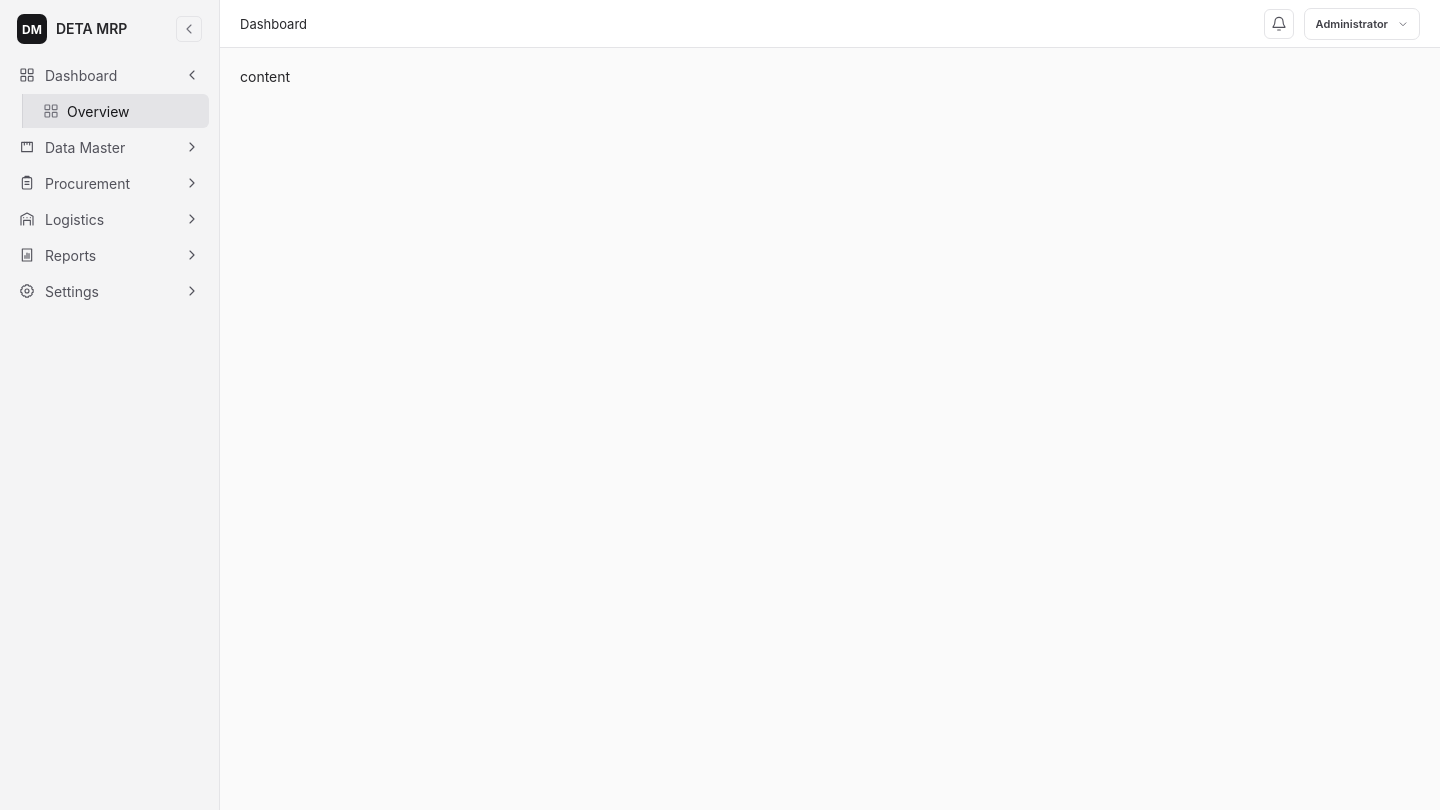
AppShell › keeps the user menu and session UI visible when logout fails
The image size is (1440, 810).
Expected: the text "Administrator" is shown, [1316,16,1388,30]
Click the button with aria-label "Open user menu" at point(1362, 24), box [1304,8,1420,40]
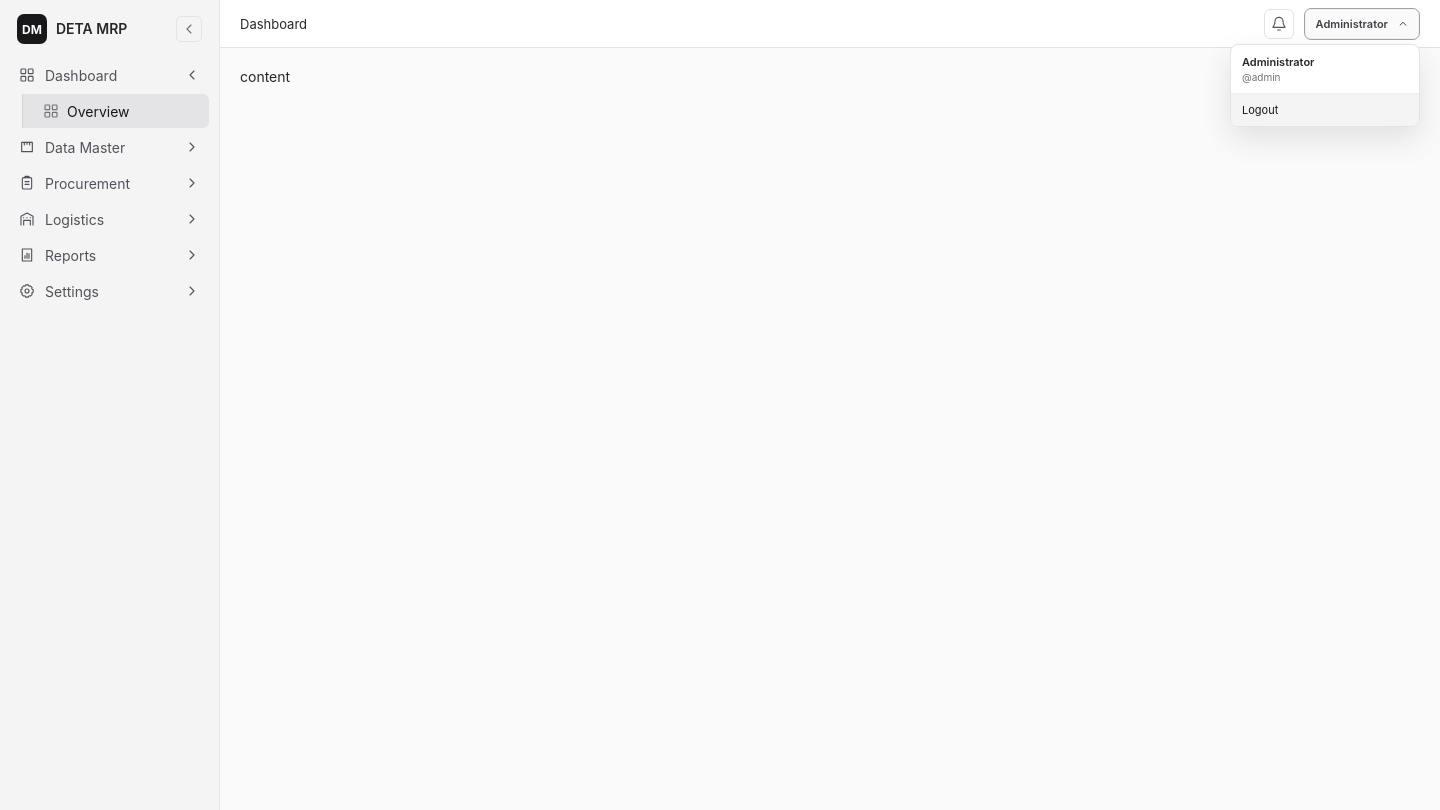
Click the button "Logout" at point(1325, 110), box [1231,94,1419,126]
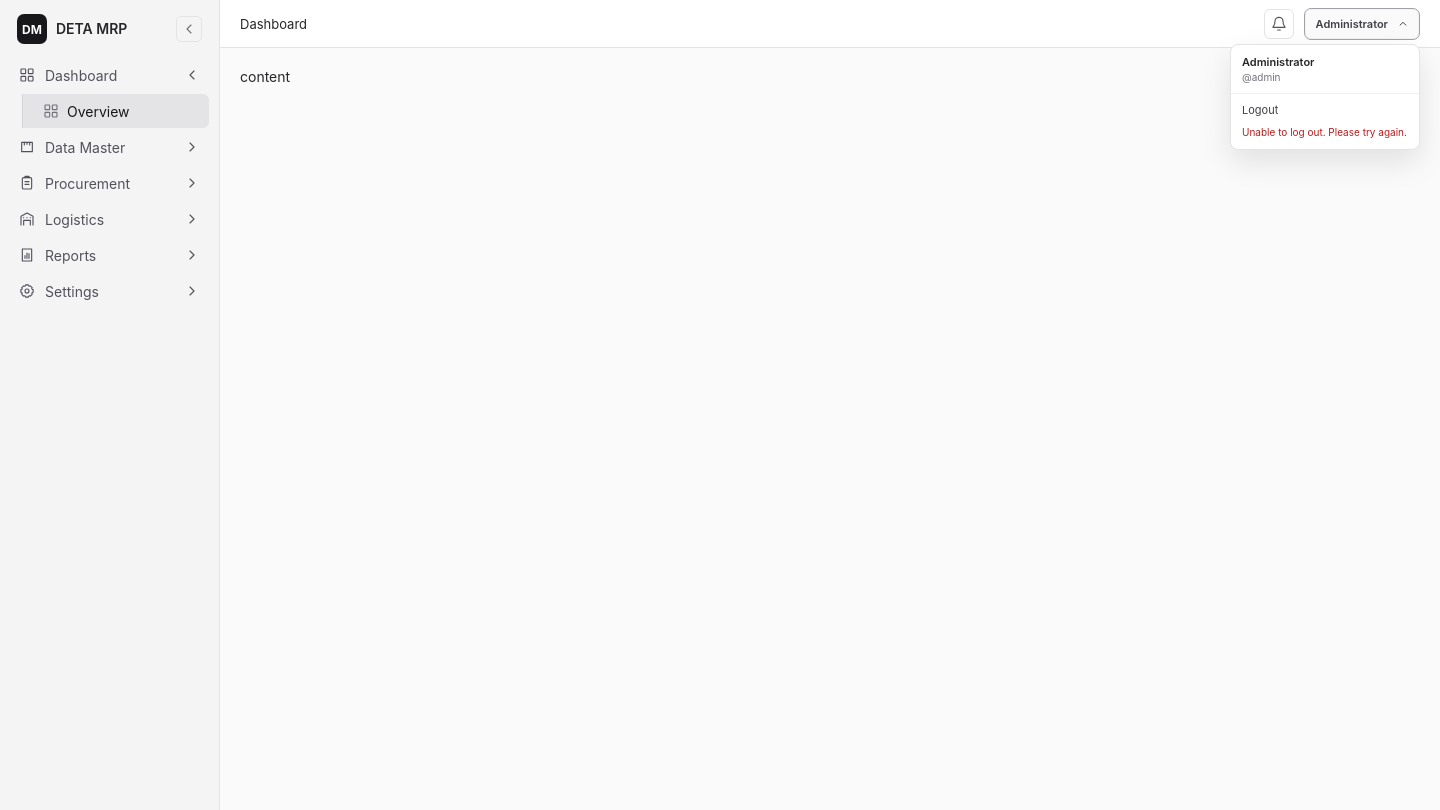
Expected: the button with aria-label "Open user menu" is shown, [1304,8,1420,40]
Expected: the dialog named "User menu" is shown, [1230,44,1420,150]
Expected: the message reads "Unable to log out. Please try again.", [1242,126,1407,138]
